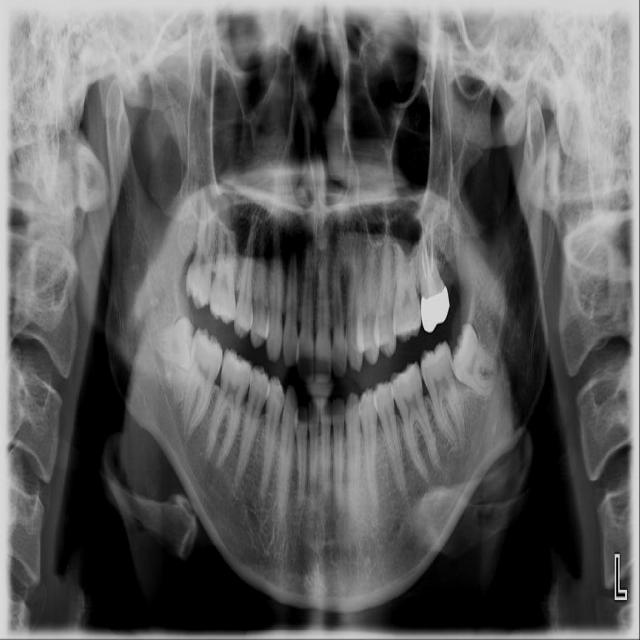Crown: (421, 277, 450, 334)
Root Canal Treatment: (423, 232, 429, 273), (430, 222, 434, 273), (420, 253, 427, 281)
impacted tooth: (451, 322, 501, 398), (148, 316, 194, 372)
